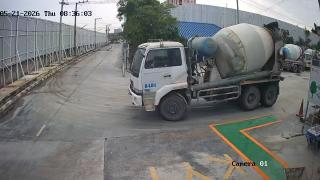cement_mixer_truck: (129, 22, 281, 113), (282, 44, 302, 71), (303, 53, 313, 67), (308, 48, 320, 58)
